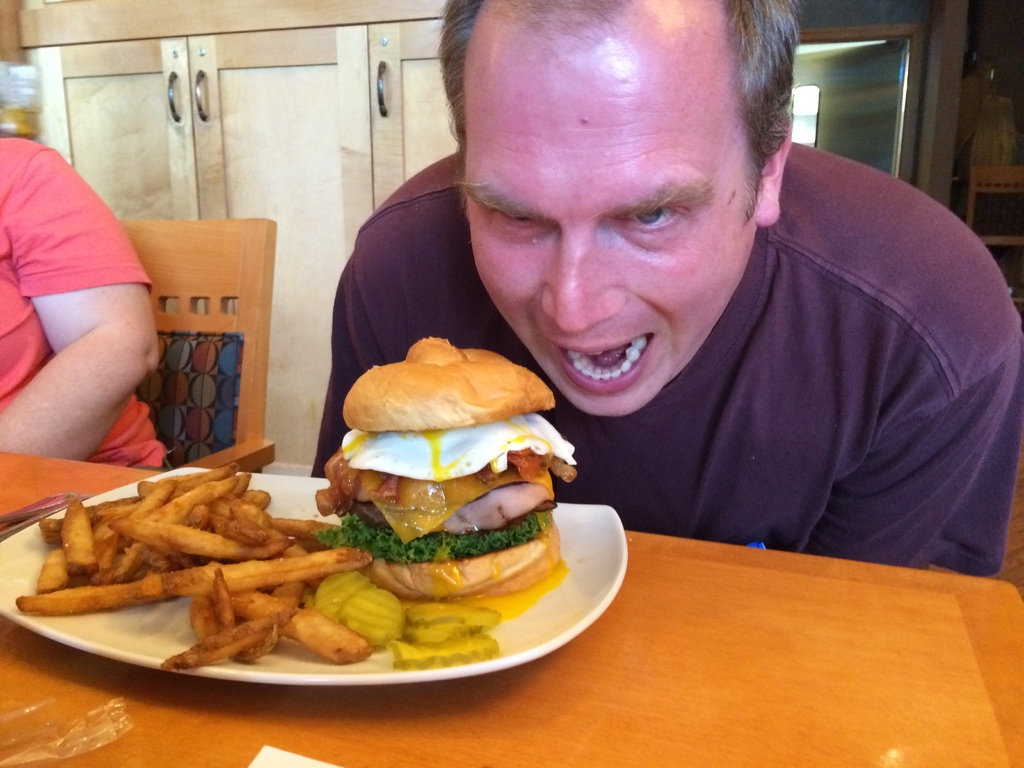French fries: (12, 474, 377, 651)
